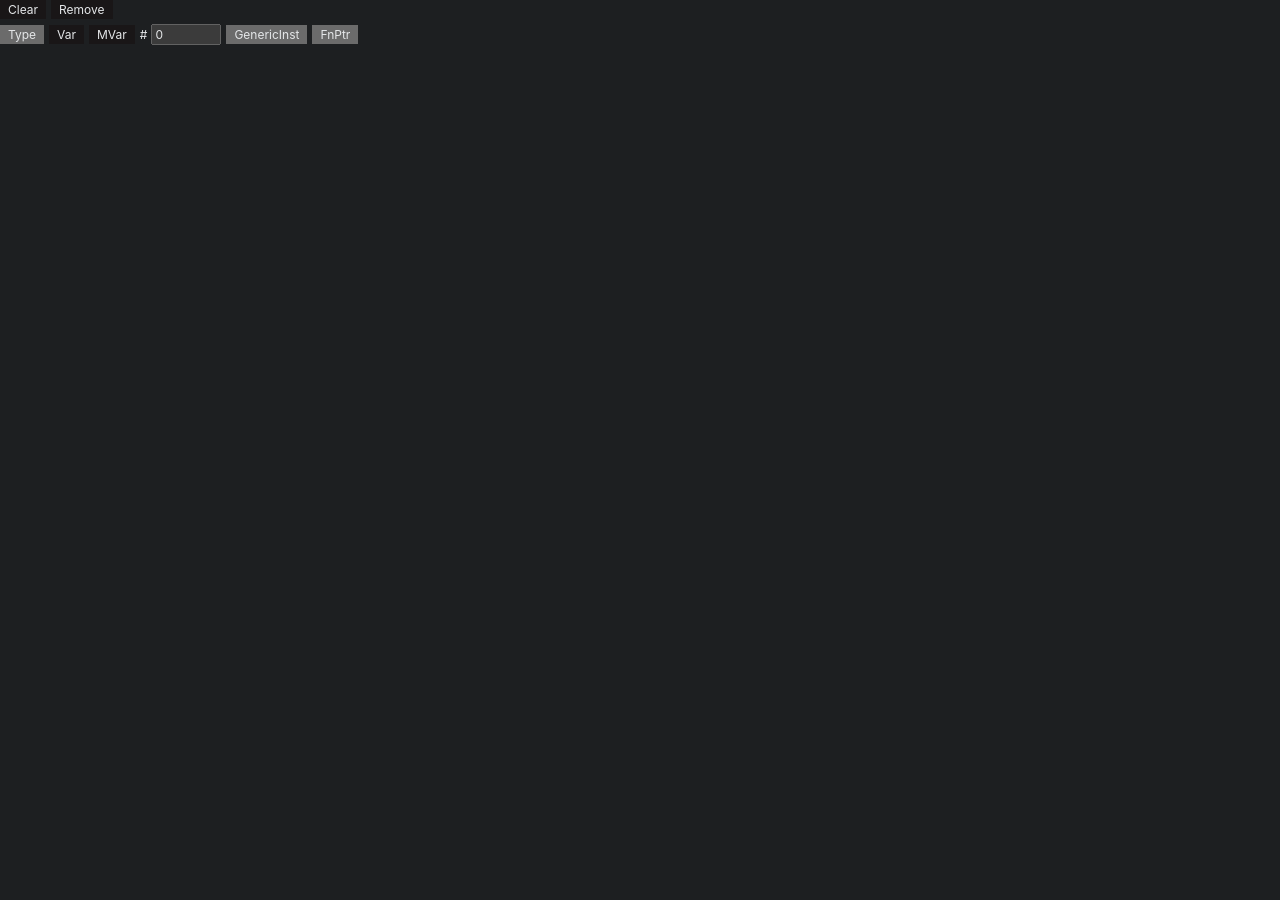
Test case: TypeSigEditor › takes the type it was picked as, named the way the backend resolves it
Click the button "Type" at coordinates (22, 34), box [0,25,44,44]
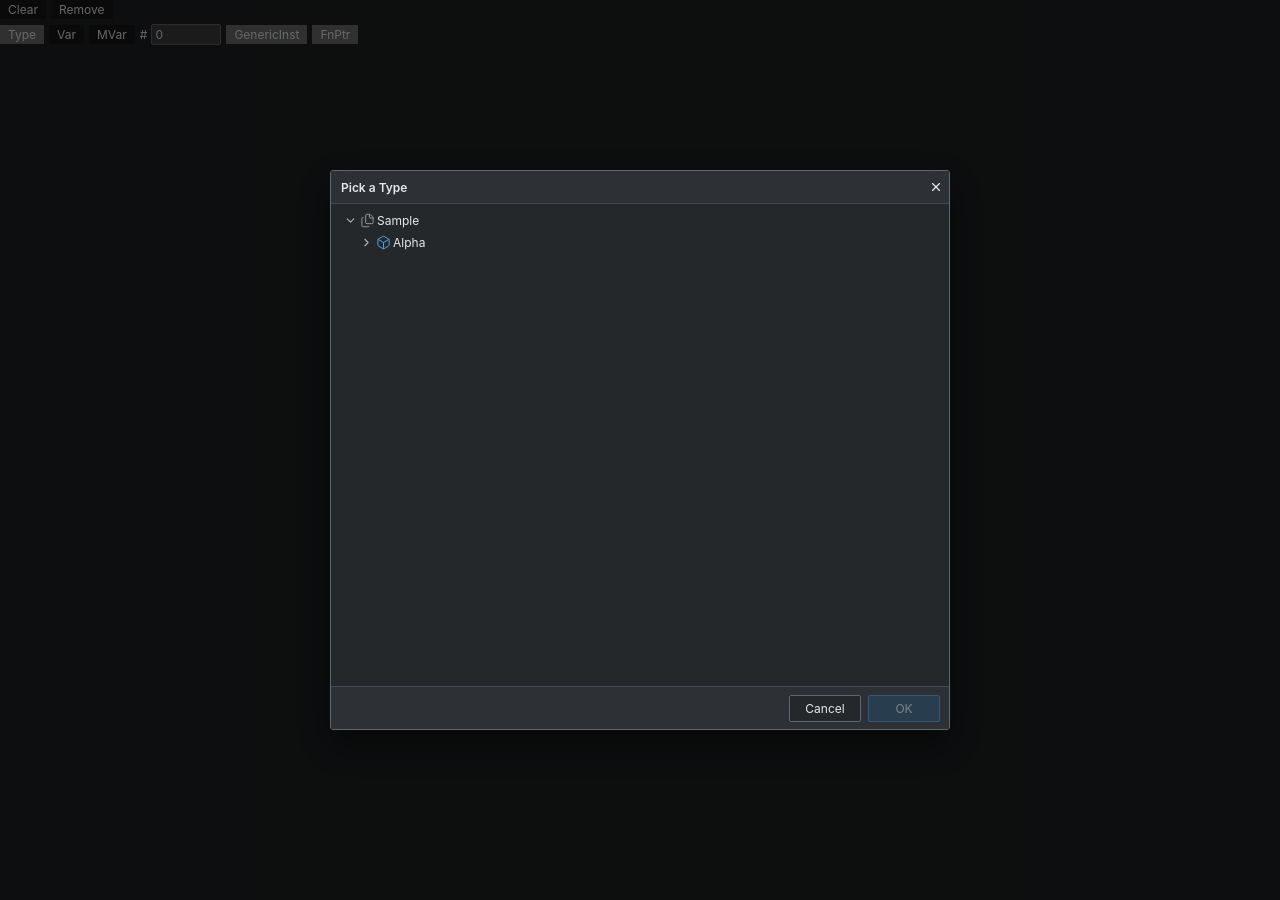
Check: the text "Sample" is shown, box [377,212,419,228]
Click the button named "Expand" at coordinates (366, 242), box [358,233,374,251]
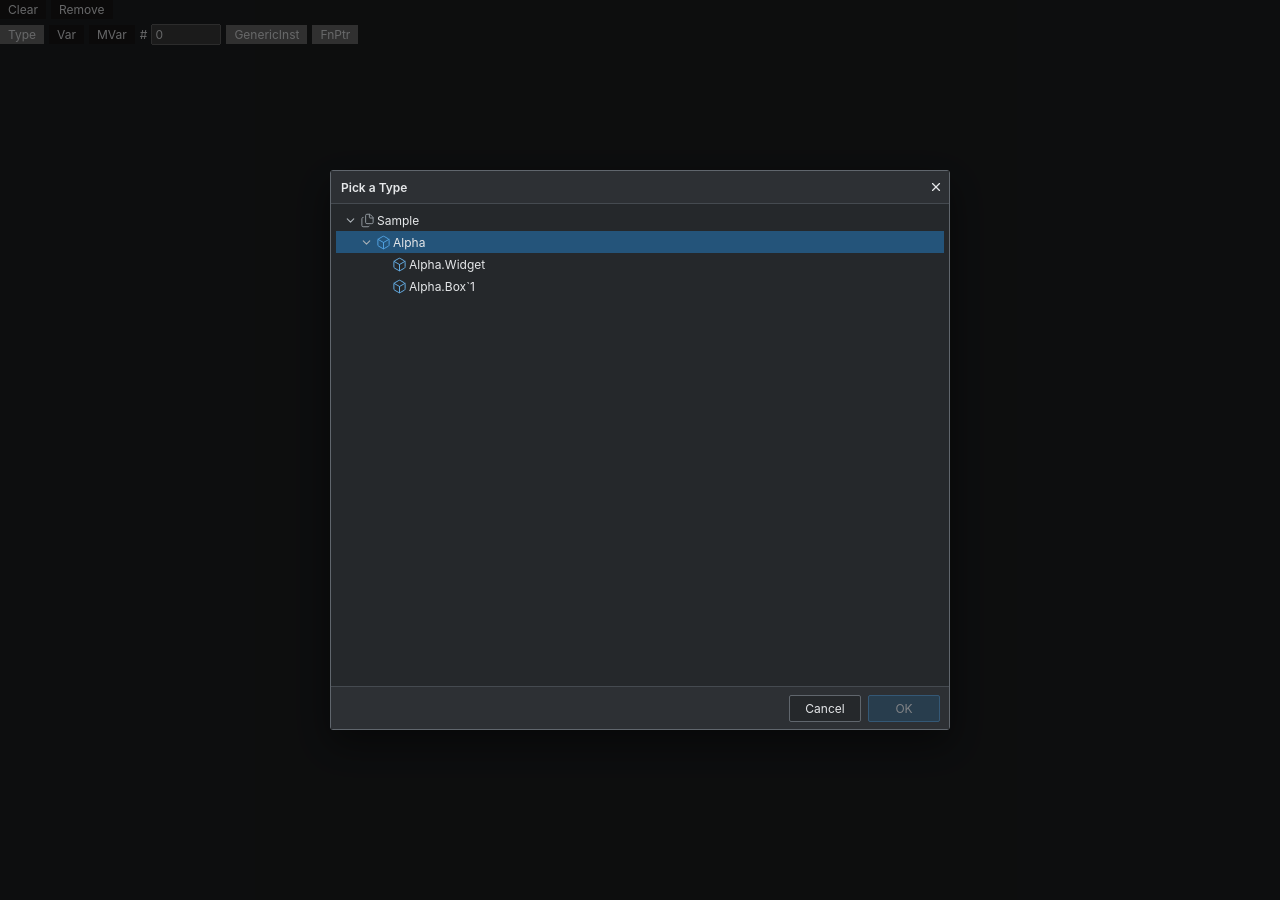
Click the text "Alpha.Widget" at coordinates (447, 264), box [409,256,485,272]
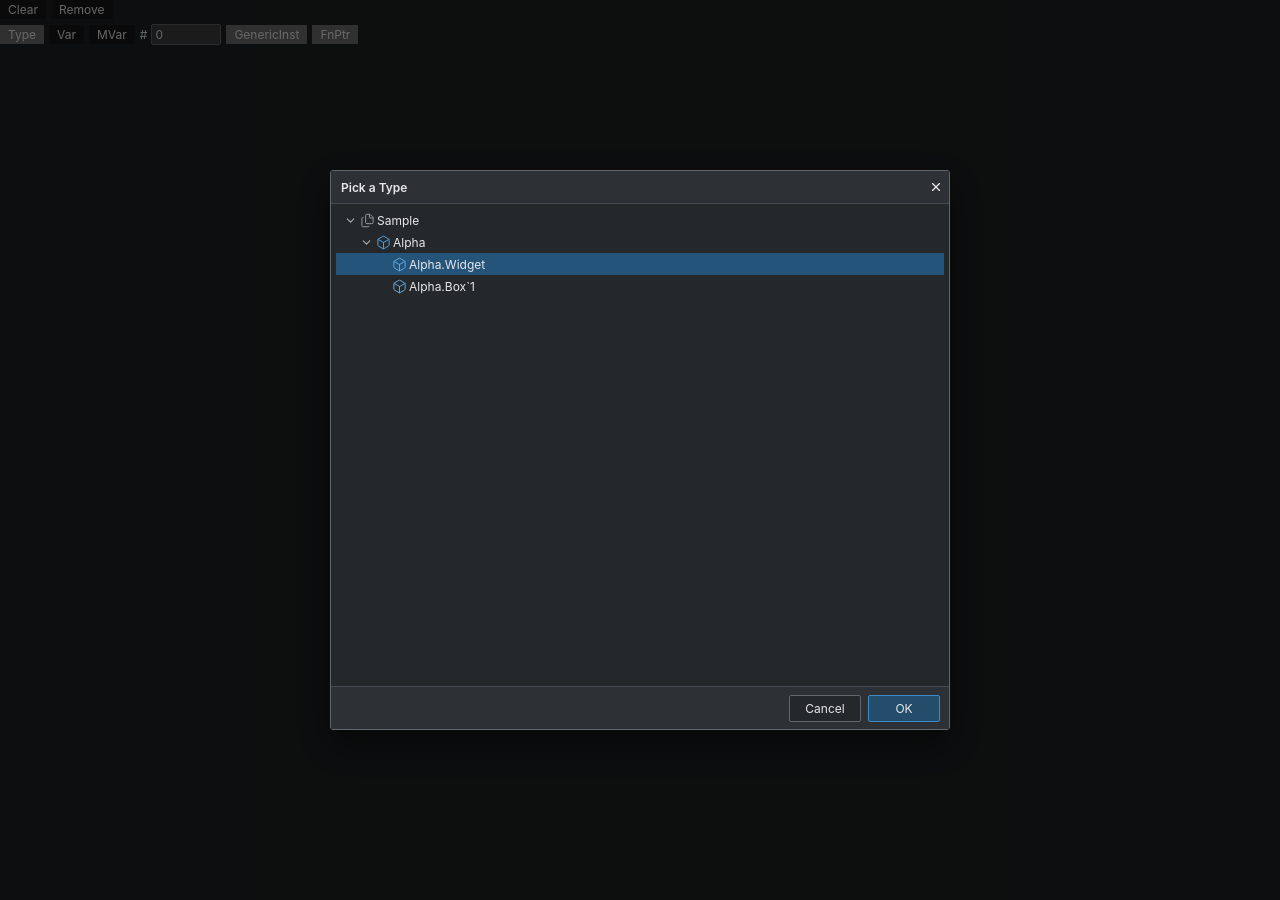
Click the button "OK" at coordinates (904, 708), box [868,694,940,722]
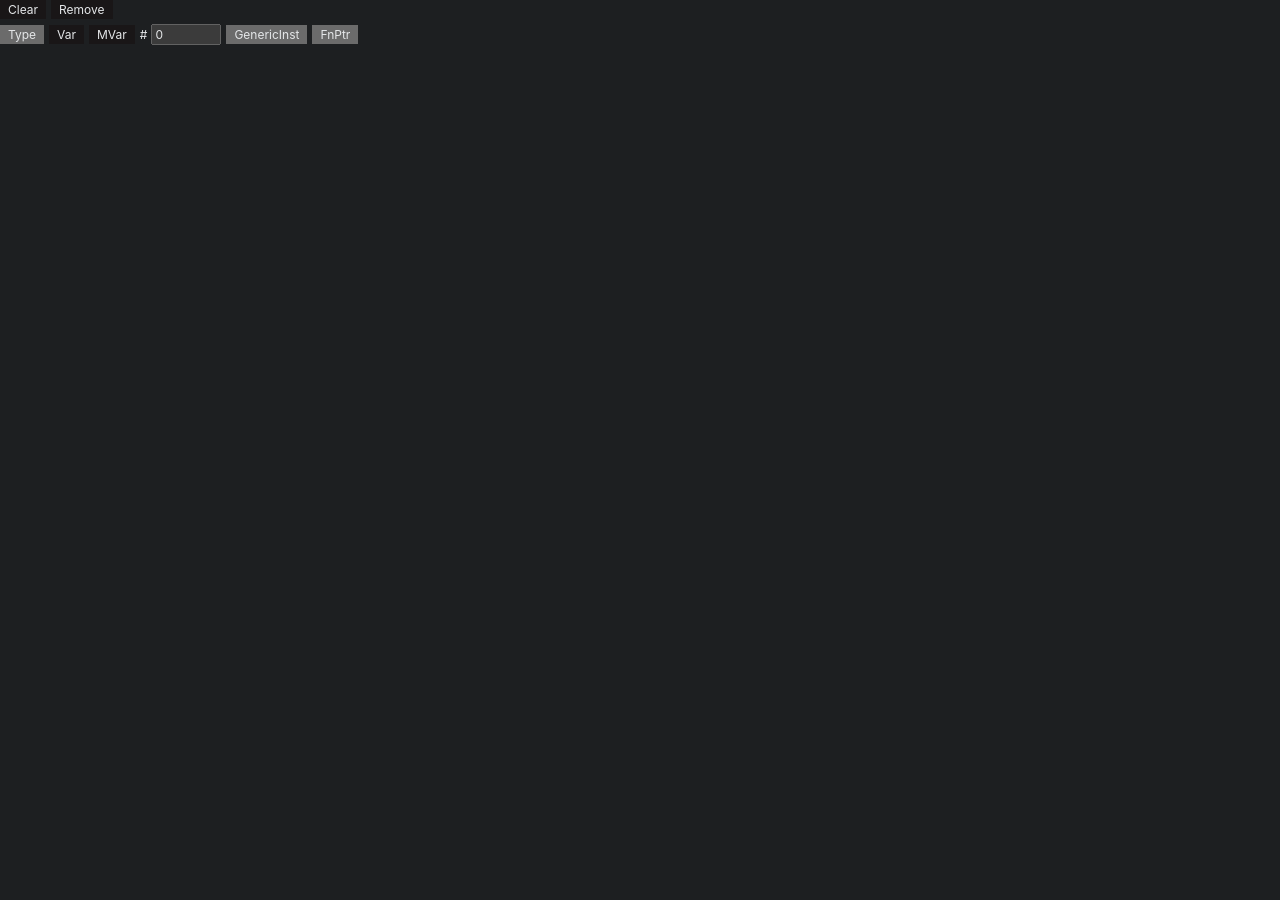
Check: the dialog is gone
